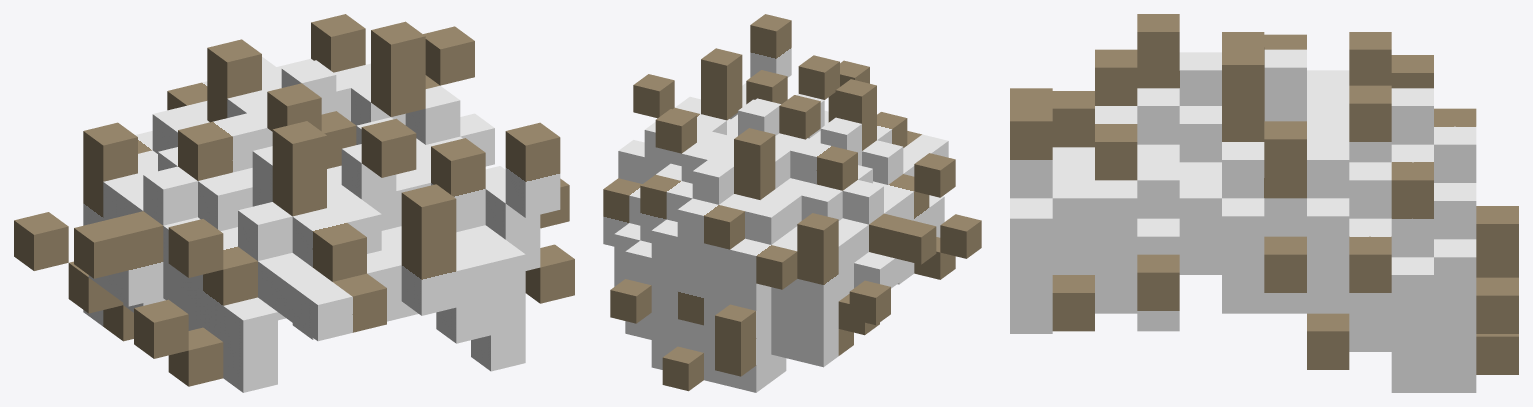
Rendered from wlosy3.dae.
The picture shows the model from 3 angles, left to right: view 1: azimuth 30°, elevation 25°; view 2: azimuth 150°, elevation 25°; view 3: azimuth 270°, elevation 25°; orthographic projection. The views are drawn at different scales.
Parts seen in each view (by area): view 1: Content; view 2: Content; view 3: Content.
Boxes of the visible parts, left/top/right/bottom form: Content: left=14, top=14, right=574, bottom=392; Content: left=603, top=14, right=981, bottom=392; Content: left=1010, top=14, right=1518, bottom=392.
Size of the model in its own units: 12 by 9 by 12.
Materials: 1 (1 with a texture image).
